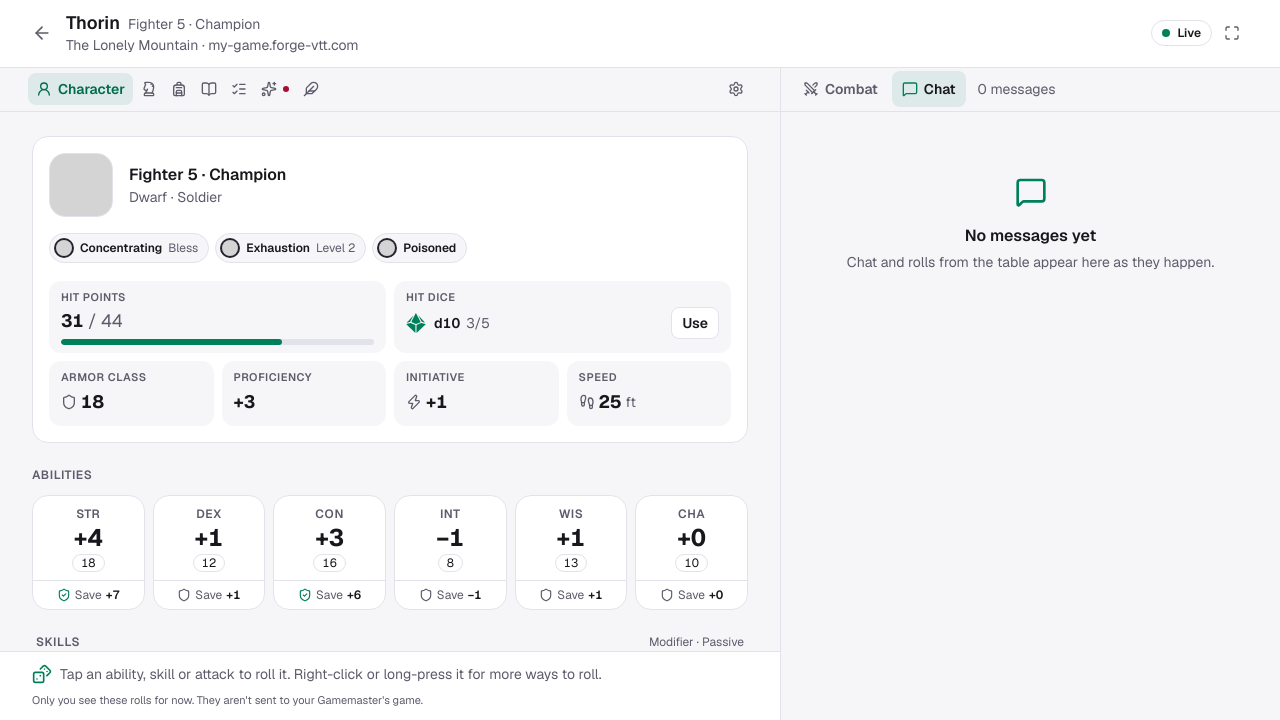
components/game-table, removing an item, from module 0.33.0 › says why the app turned it away: 409 moving
Click the tab named "Inventory". click: [179, 89]
box: [165,73,193,105]
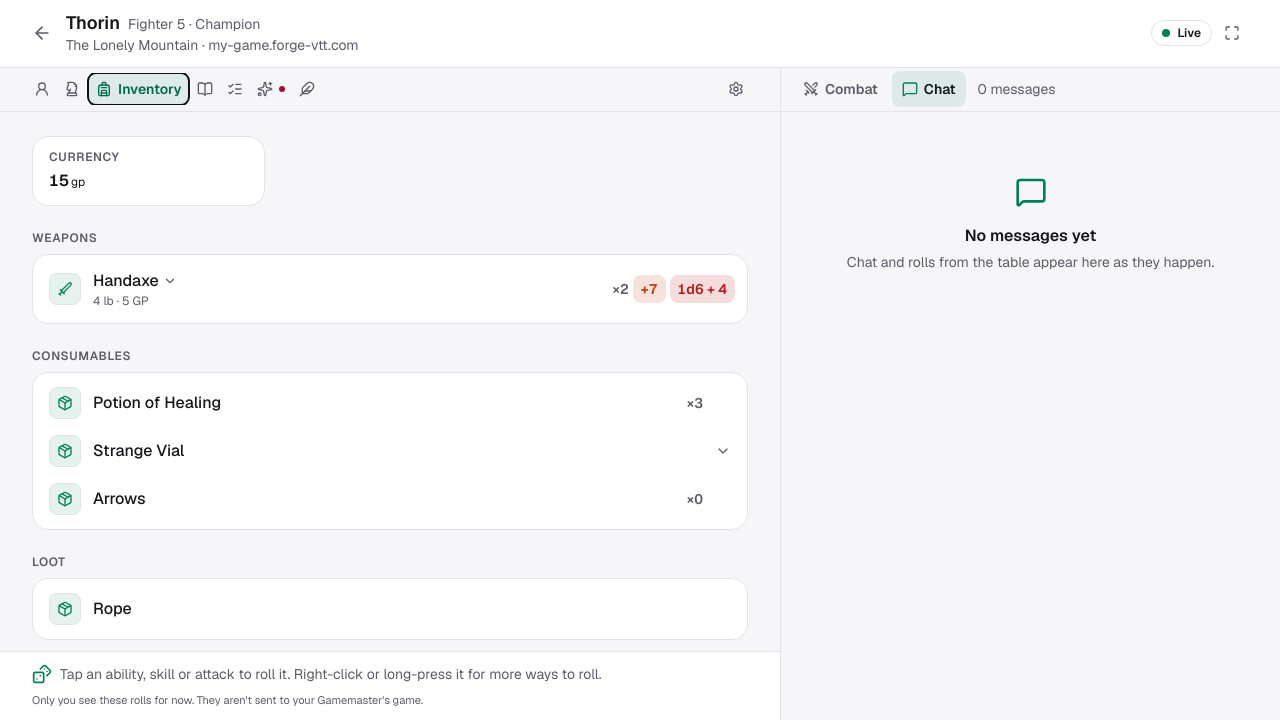
Right-click the element showing "Rope" at [90, 608], box [49,592,132,624]
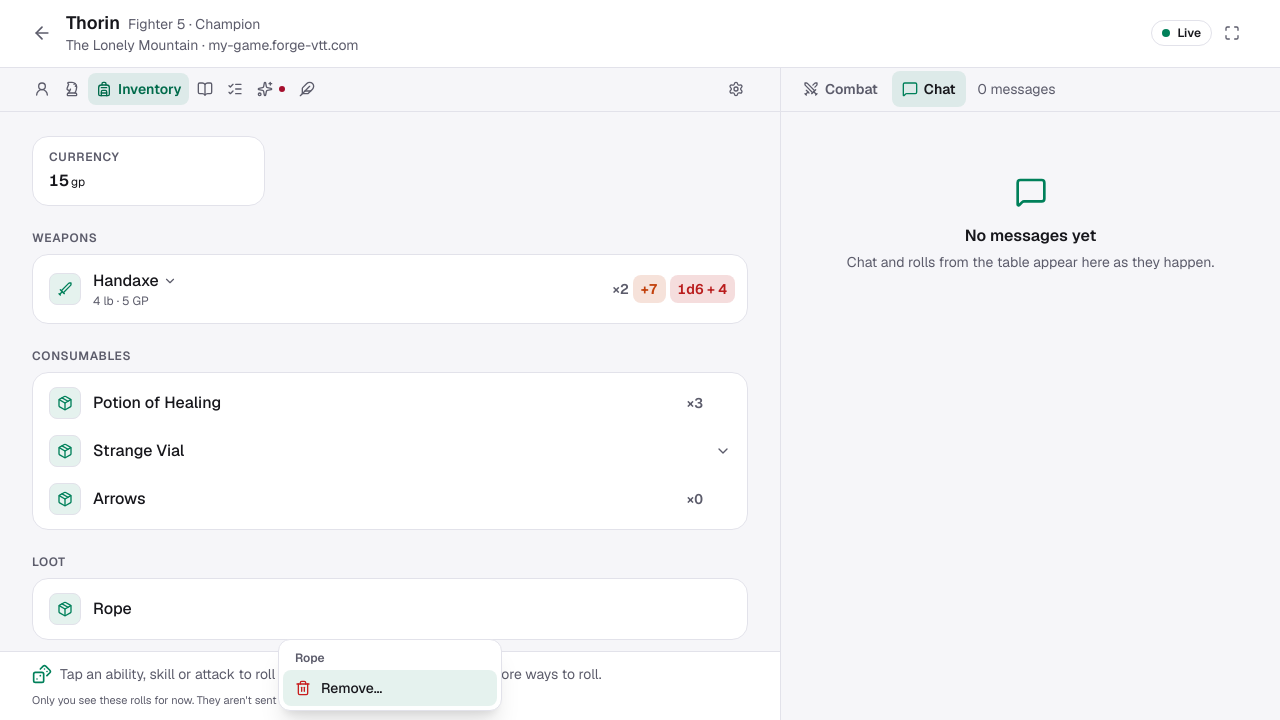
Click the menu item "Remove…". click: [390, 688]
box: [283,670,497,706]
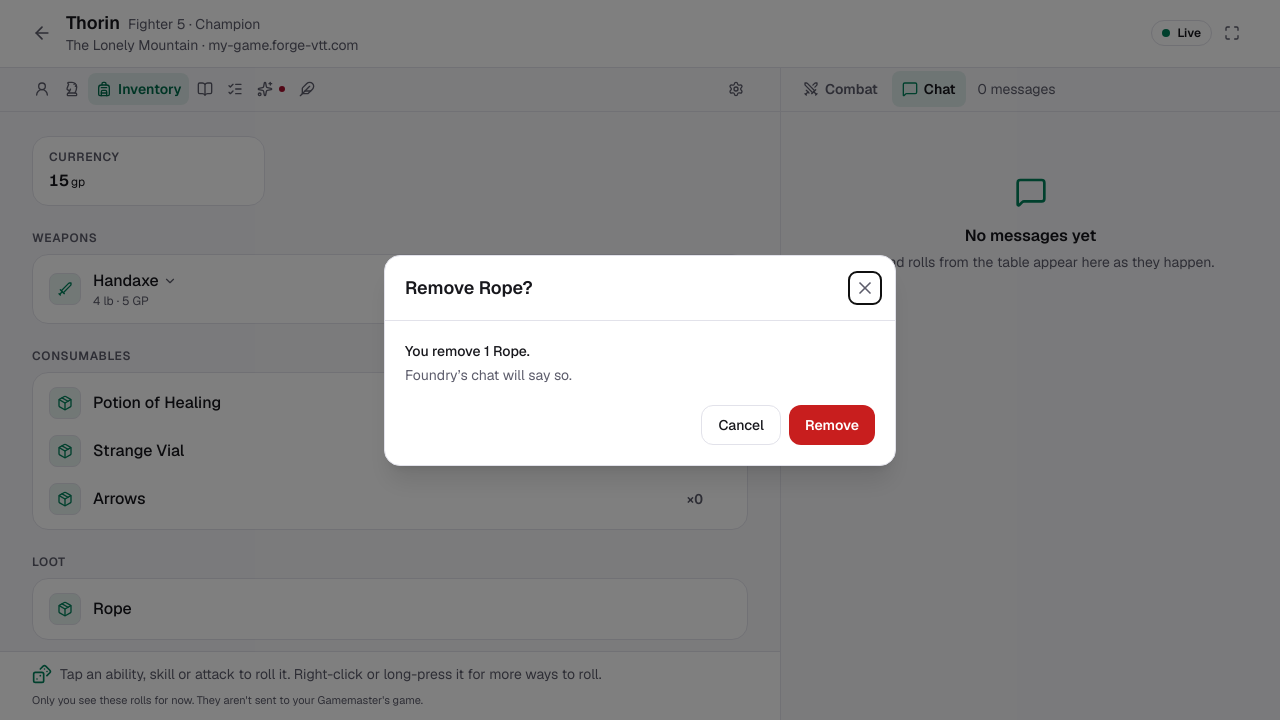
Click the button "Remove". click: [832, 424]
box: [789,404,875,444]
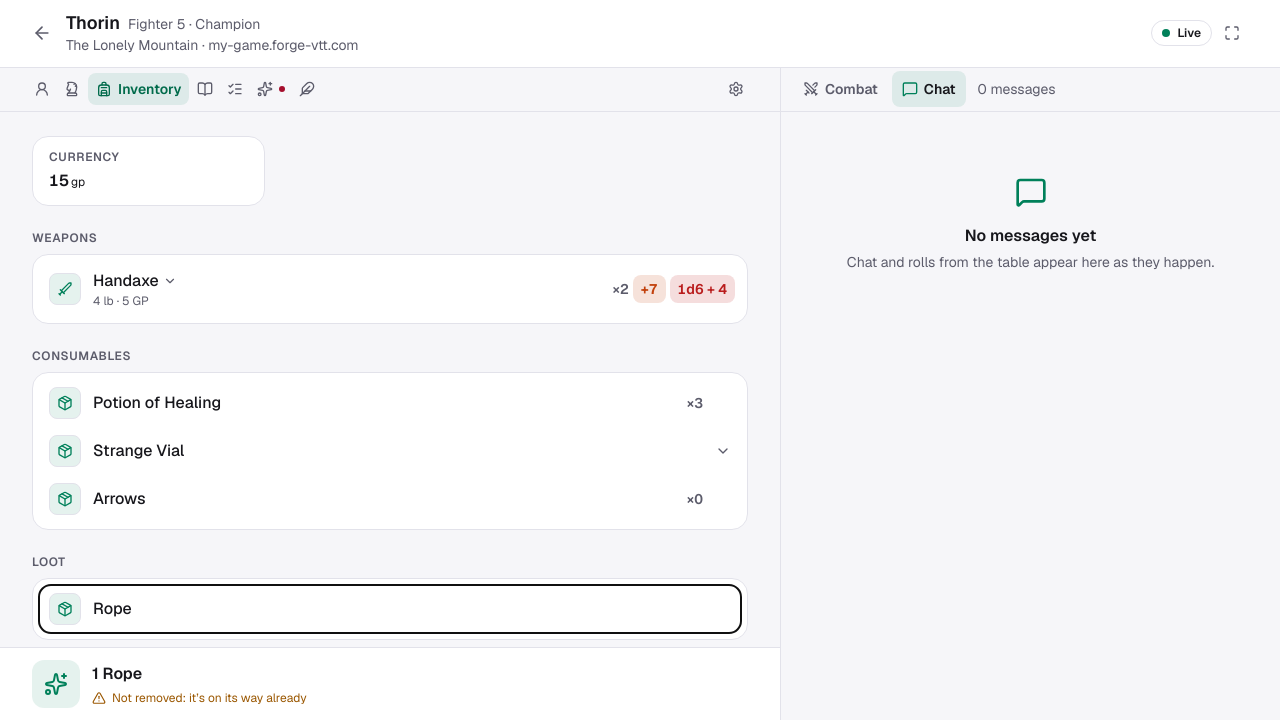
Now the text "Not removed: it’s on its way already" is shown, box [92,690,307,706]
